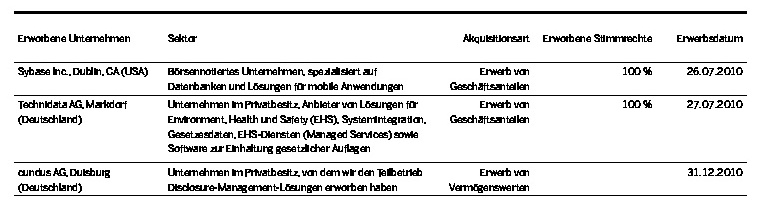table: (0, 0, 759, 209)
